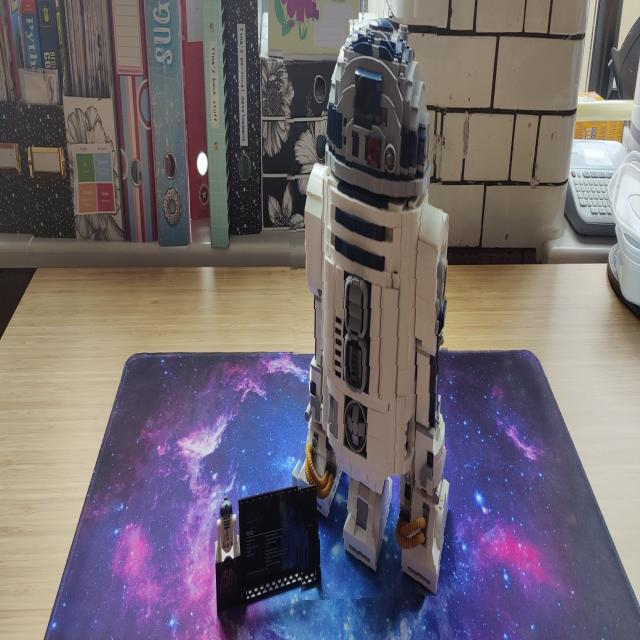r2-d2: (286, 18, 451, 599)
